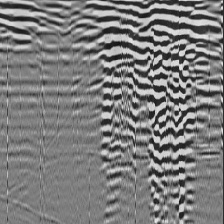cavities: (99, 4, 196, 214)
